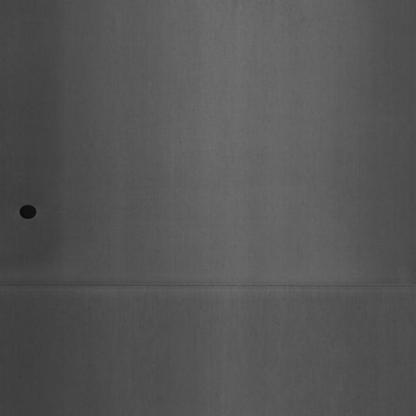punching_hole: (19, 199, 38, 225)
welding_line: (3, 266, 410, 309)
